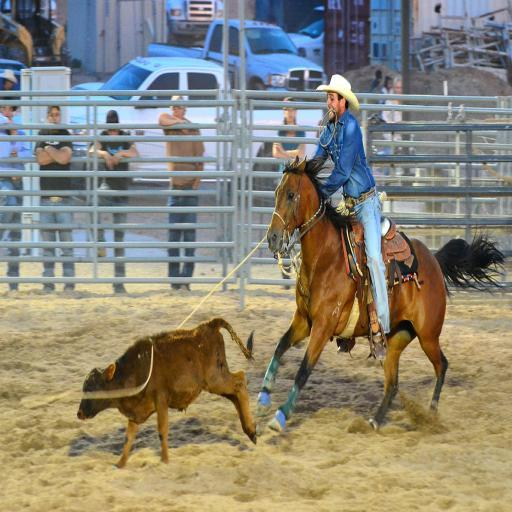Horse: (254, 153, 510, 435)
